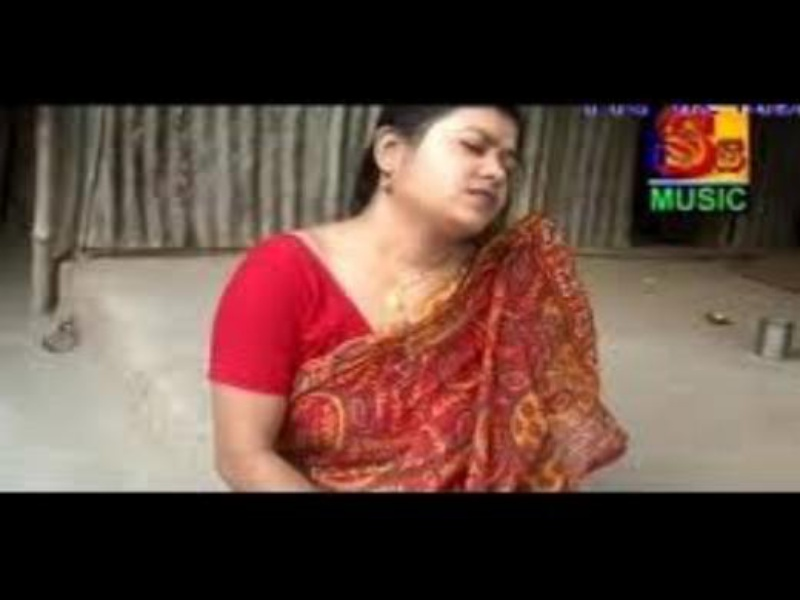TsisyArotava: (383, 86, 537, 257)
